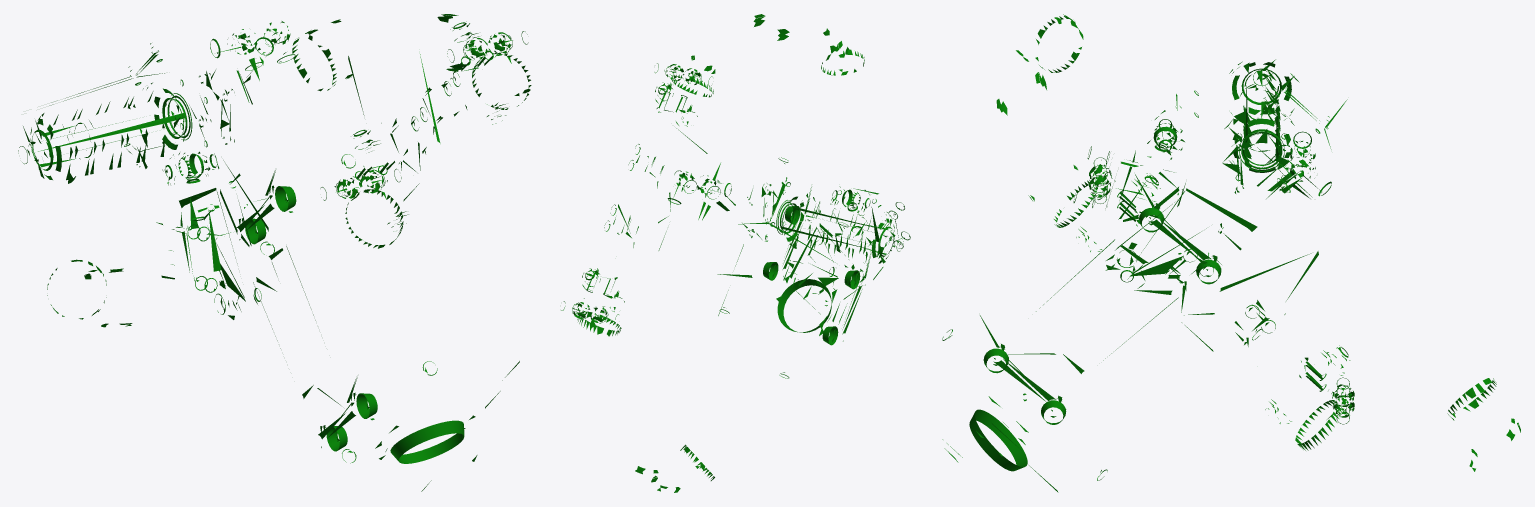
Rendered from F266820012936_003_grundkoerper_Rep.dae.
3 renders of one model, left to right at view 1: azimuth 30°, elevation 25°; view 2: azimuth 150°, elevation 25°; view 3: azimuth 270°, elevation 25°, orthographic. The views are drawn at different scales.
Visible parts, largest first — view 1: F266820012936_003_grundkoerper; view 2: F266820012936_003_grundkoerper; view 3: F266820012936_003_grundkoerper.
Boxes of the visible parts, bbox=[...] form: F266820012936_003_grundkoerper: bbox=[18, 14, 531, 491]; F266820012936_003_grundkoerper: bbox=[561, 14, 910, 492]; F266820012936_003_grundkoerper: bbox=[942, 14, 1520, 492].
Bounding box in the file's own units: 398 × 504 × 429.
